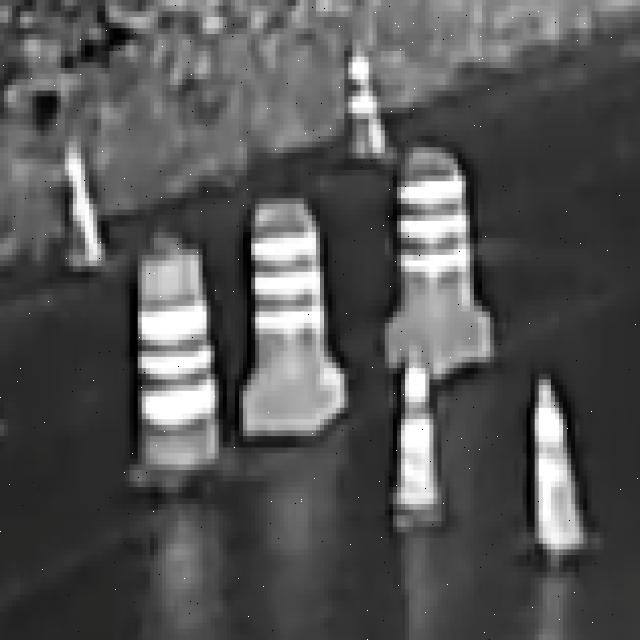big_cone: (248, 202, 330, 432), (389, 147, 472, 367), (138, 230, 213, 470)
small_cone: (523, 378, 590, 567), (390, 348, 444, 527), (339, 37, 397, 175), (52, 142, 111, 276)
